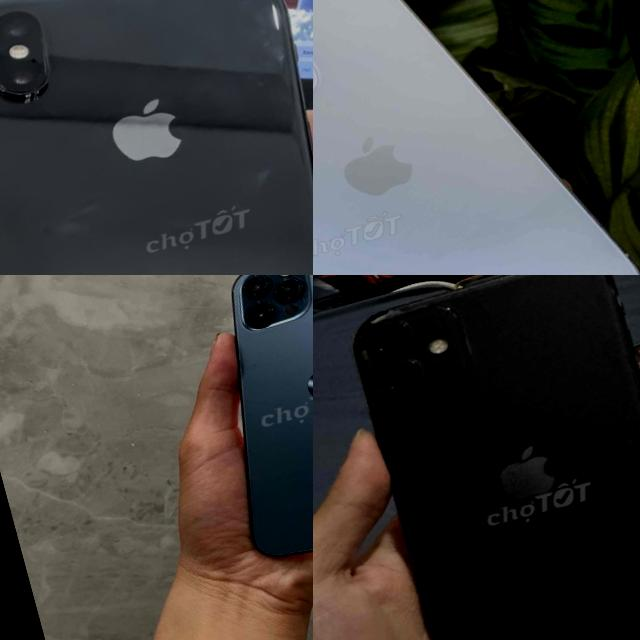scratch: (357, 275, 597, 325), (376, 319, 421, 392), (448, 308, 480, 369), (592, 275, 631, 317), (352, 342, 373, 362)
